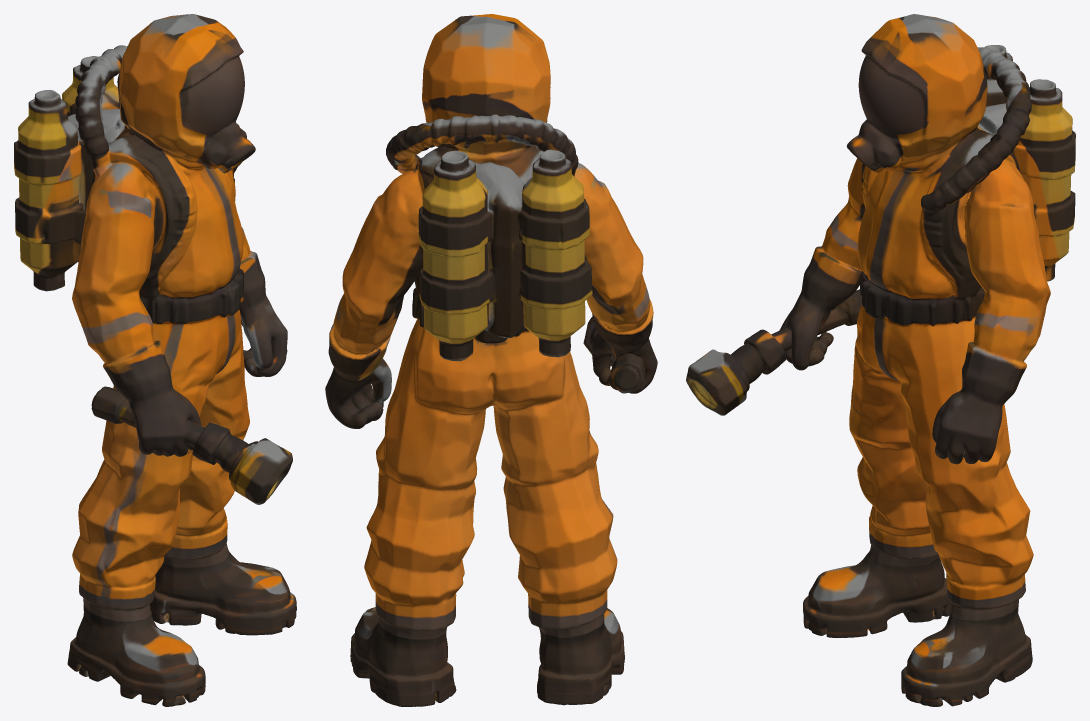
The model's file is hazmat suit 3d model.glb.
3 renders of one model, left to right at view 1: azimuth 30°, elevation 25°; view 2: azimuth 150°, elevation 25°; view 3: azimuth 270°, elevation 25°, orthographic. The views are drawn at different scales.
Visible parts, largest first — view 1: tripo_node_eed32c55-0c98-480c-b1e5-edeea4bf2be8; view 2: tripo_node_eed32c55-0c98-480c-b1e5-edeea4bf2be8; view 3: tripo_node_eed32c55-0c98-480c-b1e5-edeea4bf2be8.
Part boxes in pixels (x1,y1,x2,y2): tripo_node_eed32c55-0c98-480c-b1e5-edeea4bf2be8: (14,14,296,706); tripo_node_eed32c55-0c98-480c-b1e5-edeea4bf2be8: (325,14,657,706); tripo_node_eed32c55-0c98-480c-b1e5-edeea4bf2be8: (686,14,1075,706).
Bounding box in the file's own units: 0.416 × 1 × 0.5592.
Materials: 1 (1 with a texture image).
